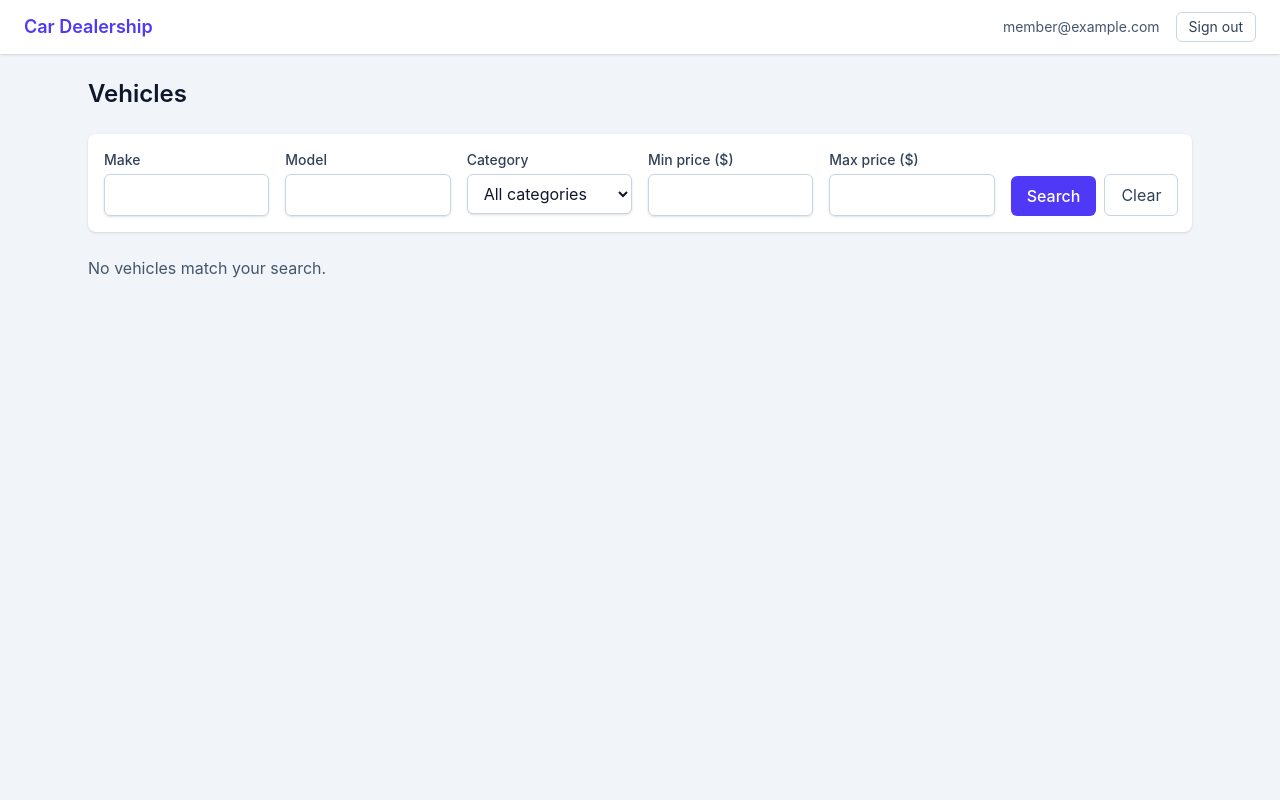
Scenario: App routing › signs out and returns to the sign-in page
Expected: the heading "Vehicles" is shown, [88,79,187,108]
Click the button "Sign out" at (1216, 27), box [1176,12,1256,42]
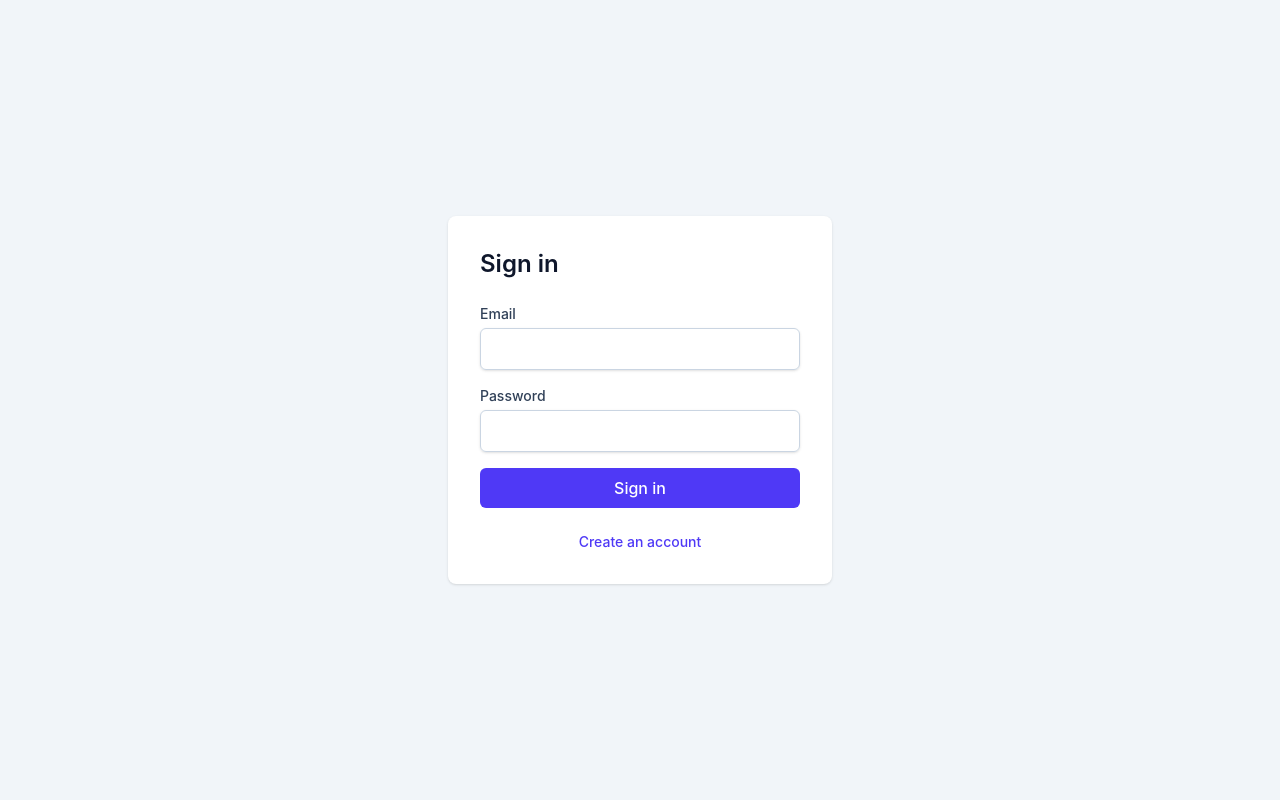
Result: the heading "Sign in" is shown at [480,249,559,278]
